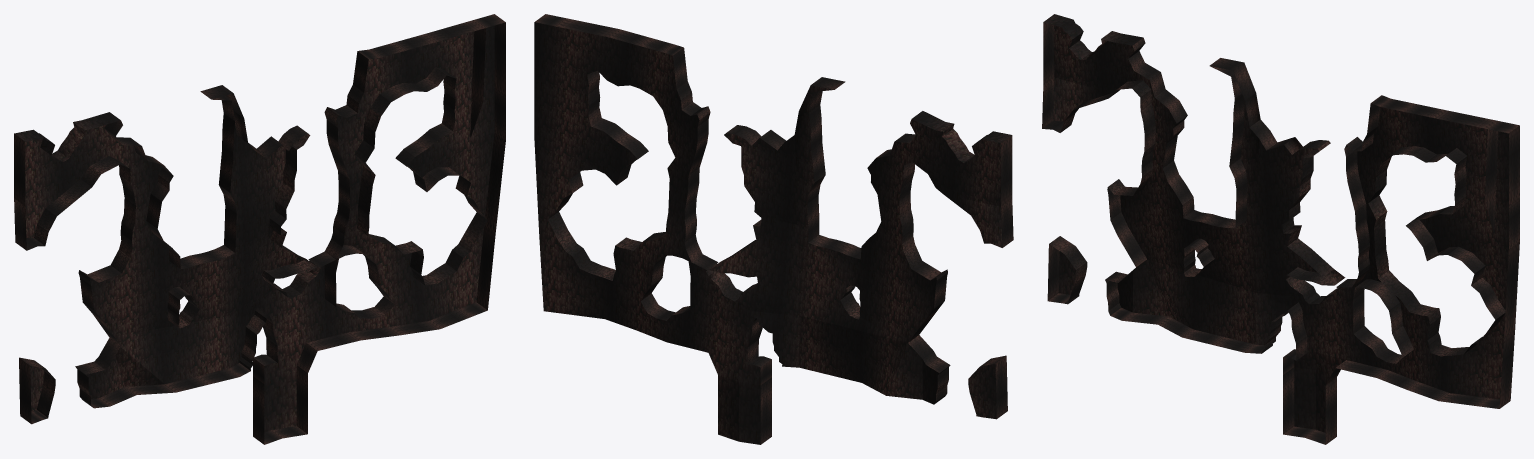
Rendered from Room4-BG2.fbx.
3 views of the same model, side by side, from view 1: azimuth 30°, elevation 25°; view 2: azimuth 150°, elevation 25°; view 3: azimuth 330°, elevation 25° (orthographic). The views are drawn at different scales.
Visible parts, largest first — view 1: polySurface324; view 2: polySurface324; view 3: polySurface324.
Boxes of the visible parts, x1,y1,x2,y2 form: polySurface324: (14,14,505,444); polySurface324: (534,14,1013,444); polySurface324: (1042,14,1519,444).
Bounding box in the file's own units: 12.95 × 9.56 × 1.16.
